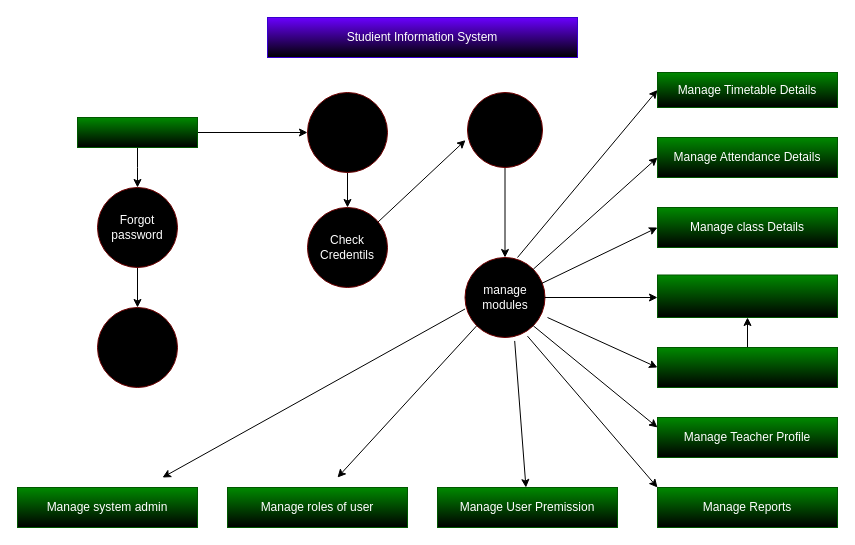
This 855x545 diagram has some shape labels left out. Here are the shapes that lost their labels. From the top down, the box of each, then its label:
(76, 116, 198, 148): Admin
(306, 92, 388, 172): Login to System
(466, 92, 542, 168): Check roles of access
(656, 274, 838, 318): Manage Student Details
(96, 306, 178, 388): Send Email to user
(656, 346, 838, 388): Manage Fees Details
